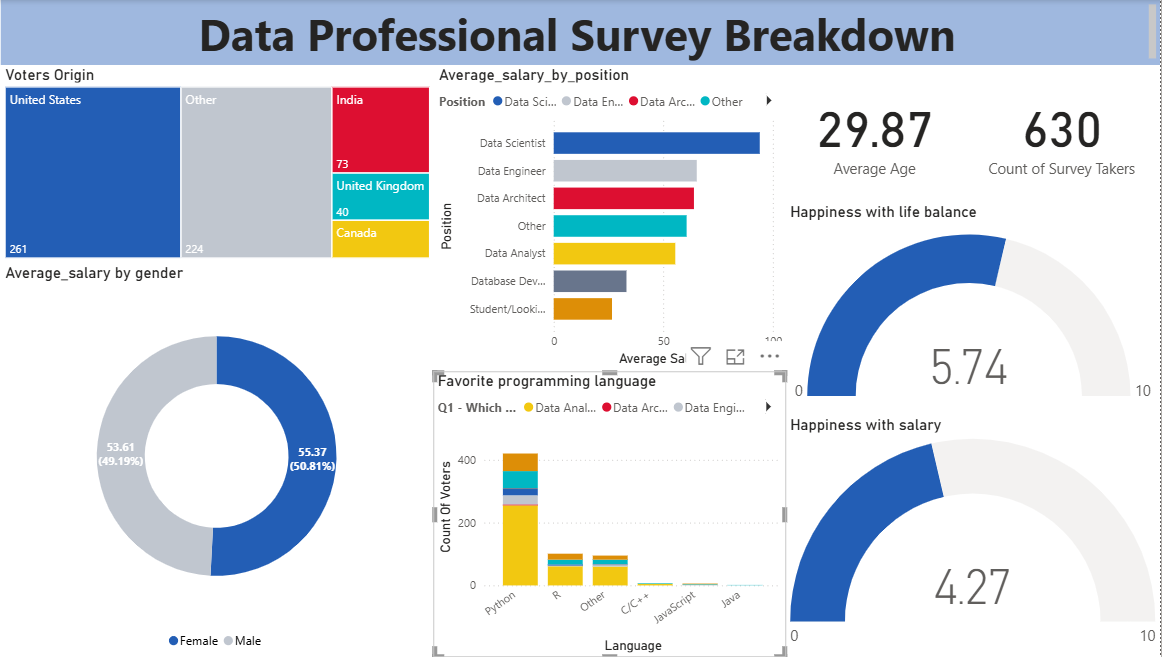

Layout of this report page (visuals, bound fields, positions):
{"tool":"powerbi","page":{"name":"Page 1","canvas":[1280,720],"ordinal":0},"visuals":[{"type":"textbox","box":[9.6,0,1270.7,71.4],"z":0},{"type":"card","fields":{"Values":["Count(Data Professional Survey.Unique ID)"]},"box":[1064.1,71.6,216.2,149.3],"z":1},{"type":"card","fields":{"Values":["Avg(Data Professional Survey.Q10 - Current Age)"]},"box":[870,71.7,195,150],"z":2},{"type":"barChart","title":"Avr_sal_by_position","fields":{"Category":["Data Professional Survey.Q1 - Which Title Best Fits your Current Role?.1"],"Y":["Avg(Data Professional Survey.avg_salary)"],"Series":["Data Professional Survey.Q1 - Which Title Best Fits your Current Role?.1"]},"box":[485.4,71.6,385.8,334.5],"z":3},{"type":"columnChart","title":"Favorite programming language","fields":{"Category":["Data Professional Survey.Q5 - Favorite Programming Language.1"],"Y":["CountNonNull(Data Professional Survey.Unique ID)"],"Series":["Data Professional Survey.Q1 - Which Title Best Fits your Current Role?.1"]},"box":[483.3,406.7,386.7,313.3],"z":4},{"type":"treemap","title":"Voters Origin","fields":{"Group":["Data Professional Survey.Q11 - Which Country do you live in?.1"],"Values":["CountNonNull(Data Professional Survey.Q11 - Which Country do you live in?.1)"]},"box":[10,71.7,475,216.7],"z":5},{"type":"gauge","title":"Happiness with salary","fields":{"Y":["Avg(Data Professional Survey.Q6 - How Happy are you in your Current Position with the following? (Salary))"],"MaxValue":["Max(Data Professional Survey.Q6 - How Happy are you in your Current Position with the following? (Salary))"],"MinValue":["Min(Data Professional Survey.Q6 - How Happy are you in your Current Position with the following? (Salary))"]},"box":[870,455,410,265],"z":6},{"type":"gauge","title":"Happiness with life balance","fields":{"Y":["Avg(Data Professional Survey.Q6 - How Happy are you in your Current Position with the following? (Work/Life Balance))"],"MinValue":["Min(Data Professional Survey.Q6 - How Happy are you in your Current Position with the following? (Work/Life Balance))"],"MaxValue":["Max(Data Professional Survey.Q6 - How Happy are you in your Current Position with the following? (Work/Life Balance))"]},"box":[870,221.7,410,233.3],"z":7},{"type":"donutChart","title":"Averagesalary by gender","fields":{"Category":["Data Professional Survey.Q9 - Male/Female?"],"Y":["Avg(Data Professional Survey.avg_salary)"]},"box":[10,288.3,473.3,431.7],"z":8}]}

Visuals, with their boxes in screenshot pixels (x1, y1, x2, y2), scaled from the page's 1280x720 canvas onto the 1162x657 screenshot:
textbox: <bbox>9, 0, 1161, 65</bbox>
card - Count(Data Professional Survey.Unique ID): <bbox>966, 65, 1161, 202</bbox>
card - Avg(Data Professional Survey.Q10 - Current Age): <bbox>790, 65, 967, 202</bbox>
"Avr_sal_by_position" barChart: <bbox>441, 65, 791, 371</bbox>
"Favorite programming language" columnChart: <bbox>439, 371, 790, 656</bbox>
"Voters Origin" treemap: <bbox>9, 65, 440, 263</bbox>
"Happiness with salary" gauge: <bbox>790, 415, 1161, 656</bbox>
"Happiness with life balance" gauge: <bbox>790, 202, 1161, 415</bbox>
"Averagesalary by gender" donutChart: <bbox>9, 263, 439, 656</bbox>
